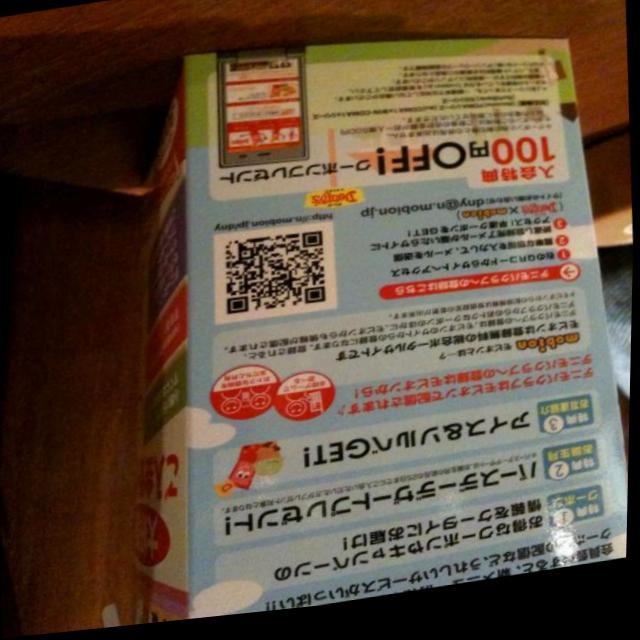qrcode: (225, 233, 329, 322)
